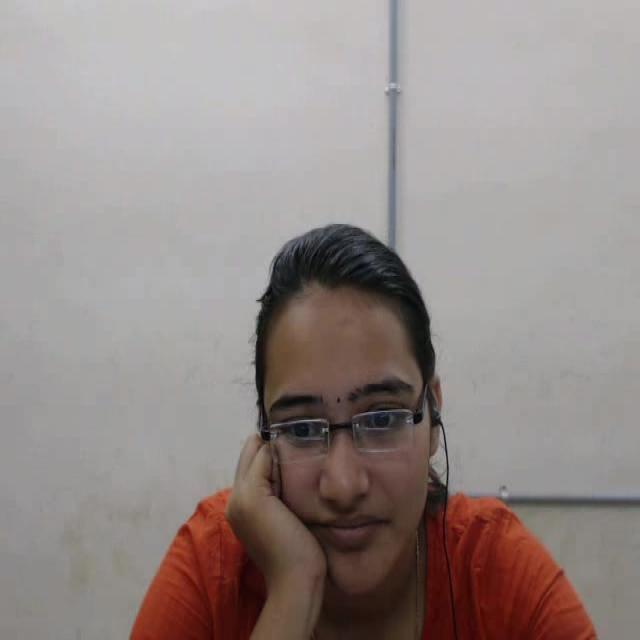Bored: (218, 180, 561, 640)
